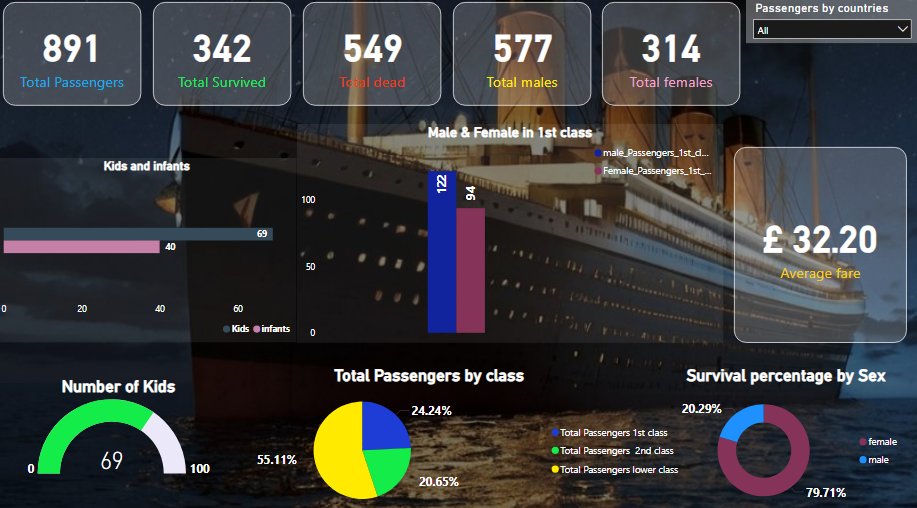

The page's visual inventory and layout, read from the dashboard file:
{"tool":"powerbi","page":{"name":"Page 2","canvas":[1280,720],"ordinal":0},"visuals":[{"type":"card","fields":{"Values":["titanic.Total_Passengers"]},"box":[9,7.3,192,144],"z":0},{"type":"card","fields":{"Values":["titanic.Total_Survived"]},"box":[217,7.3,192,144],"z":1000},{"type":"card","fields":{"Values":["titanic.Total_dead"]},"box":[425,7.3,192,144],"z":2000},{"type":"card","fields":{"Values":["titanic.Total_males"]},"box":[633,7.3,192,144],"z":3000},{"type":"card","fields":{"Values":["titanic.Total_females"]},"box":[841,7.3,192,144],"z":4000},{"type":"donutChart","fields":{"Category":["titanic.Sex"],"Y":["titanic.Survival_percentage"]},"box":[928,512,336,208],"z":5000},{"type":"pieChart","title":"Total Passengers by class","fields":{"Y":["titanic.Total_Passengers_1st_class","titanic.Total_Passengers_2nd_class","titanic.Total_Passengers_lower_class"]},"box":[240,512,720,208],"z":6000},{"type":"gauge","fields":{"Y":["titanic.Number_of_Kids"]},"box":[16,528,304,144],"z":7000},{"type":"slicer","fields":{"Values":["titanic.Countries"]},"box":[1040,0,240,64],"z":8000},{"type":"card","fields":{"Values":["titanic.Avg_fare"]},"box":[1024,208,240,272],"z":9000},{"type":"clusteredBarChart","fields":{"Y":["titanic.Number_of_Kids","titanic.infants"]},"box":[0,224,416,256],"z":10000},{"type":"clusteredColumnChart","title":"Male & Female in 1st class","fields":{"Y":["titanic.male_Passengers_1st_class","titanic.Female_Passengers_1st_class"]},"box":[416,176,592,304],"z":11000}]}

Visuals, with their boxes in screenshot pixels (x1, y1, x2, y2), scaled from the page's 1280x720 canvas onto the 917x508 screenshot:
card - titanic.Total_Passengers: 6/5/144/107
card - titanic.Total_Survived: 155/5/293/107
card - titanic.Total_dead: 304/5/442/107
card - titanic.Total_males: 453/5/591/107
card - titanic.Total_females: 602/5/740/107
donutChart - titanic.Sex x titanic.Survival_percentage: 665/361/906/507
"Total Passengers by class" pieChart: 172/361/688/507
gauge - titanic.Number_of_Kids: 11/373/229/474
slicer - titanic.Countries: 745/0/916/45
card - titanic.Avg_fare: 734/147/906/339
clusteredBarChart - titanic.Number_of_Kids x titanic.infants: 0/158/298/339
"Male & Female in 1st class" clusteredColumnChart: 298/124/722/339
